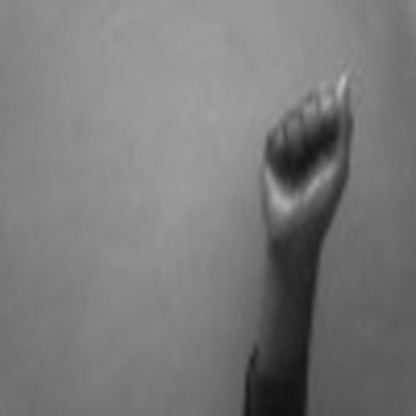a: (253, 61, 362, 244)
